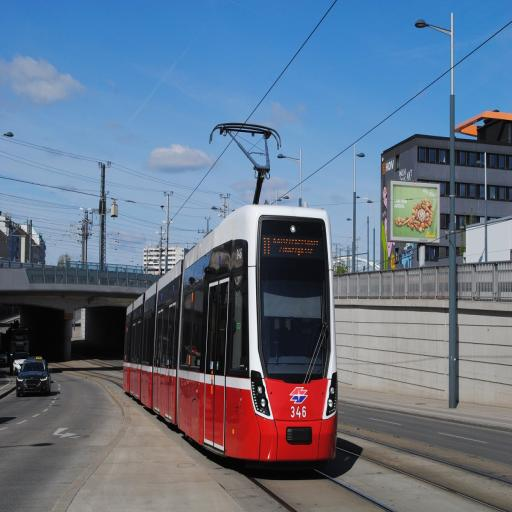Flexity: (124, 205, 341, 463)
